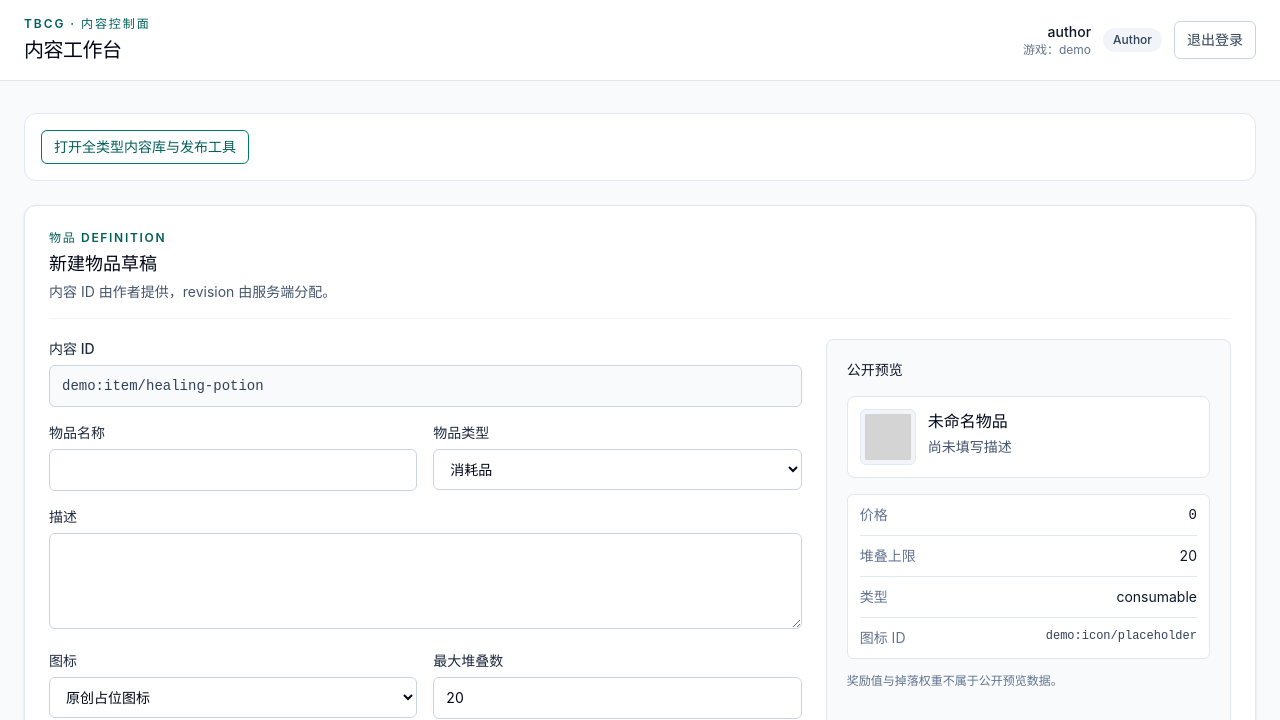
Scenario: App › reports logout failures without fabricating a logged-out session
Click the button "退出登录" at point(1215, 40), box [1174,21,1256,59]
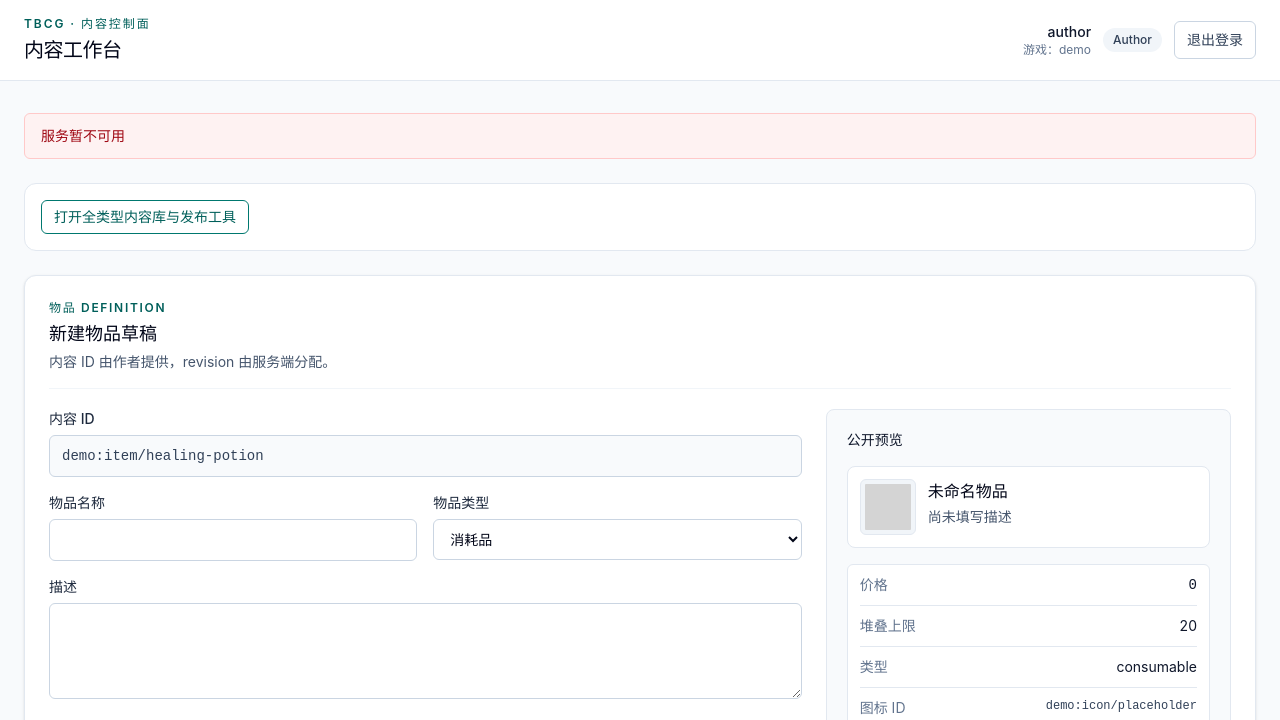
Expected: the heading "内容工作台" is shown, [24,38,122,62]
Now the message reads "服务暂不可用", box [41,127,125,144]
